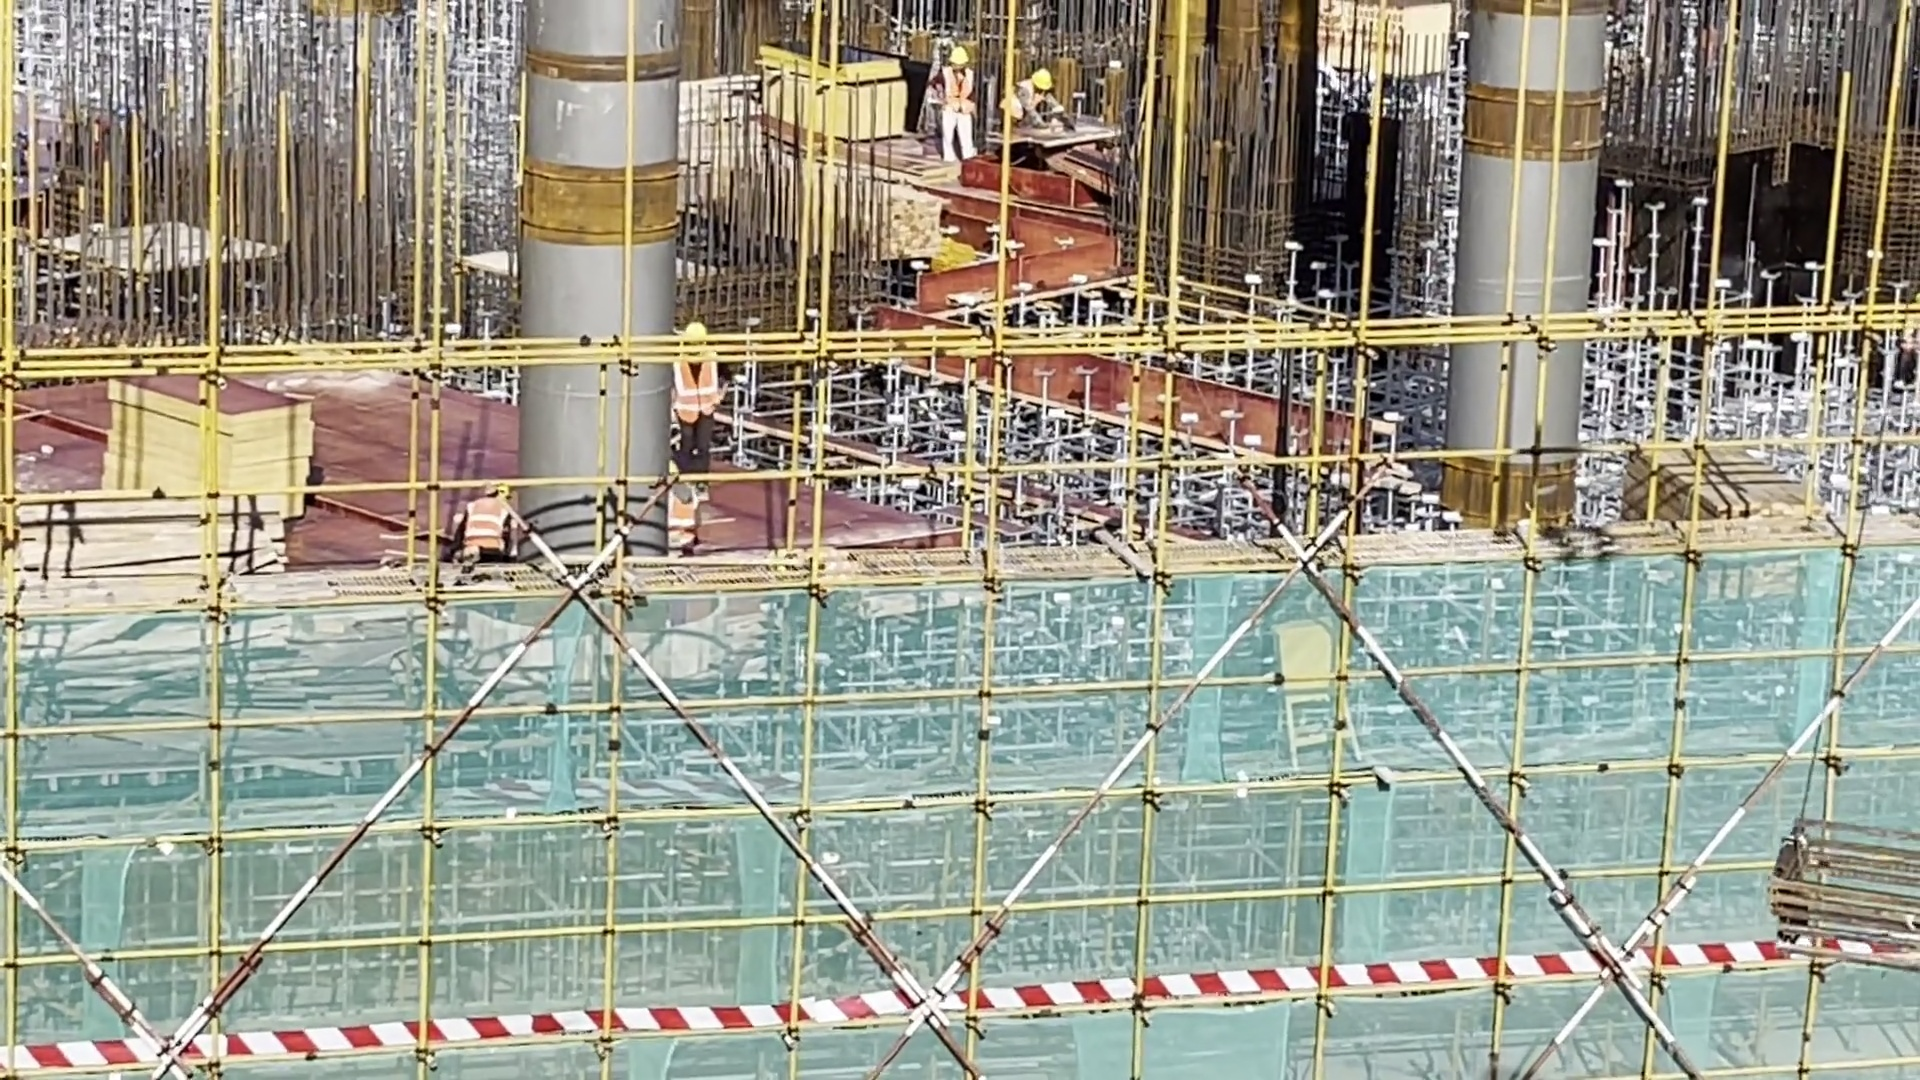helmet: (681, 321, 713, 358), (1027, 64, 1060, 101), (949, 44, 973, 75)
person: (665, 318, 736, 494), (651, 462, 719, 581), (458, 476, 530, 580), (938, 37, 977, 173), (1009, 59, 1072, 144)
vest: (669, 350, 730, 429), (464, 496, 511, 562), (661, 480, 702, 546), (1005, 79, 1049, 128), (943, 69, 977, 121)
